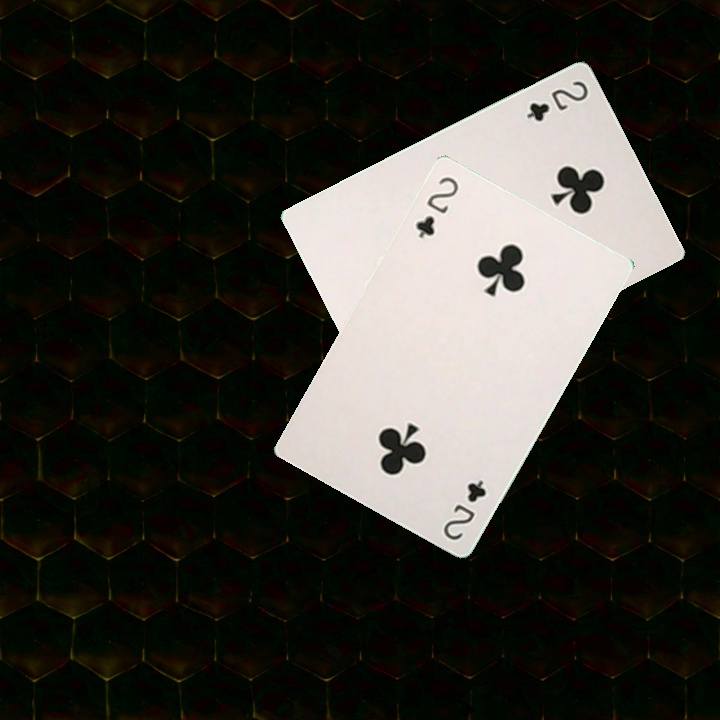2c: (411, 172, 462, 241), (439, 475, 489, 543), (522, 76, 591, 124)
